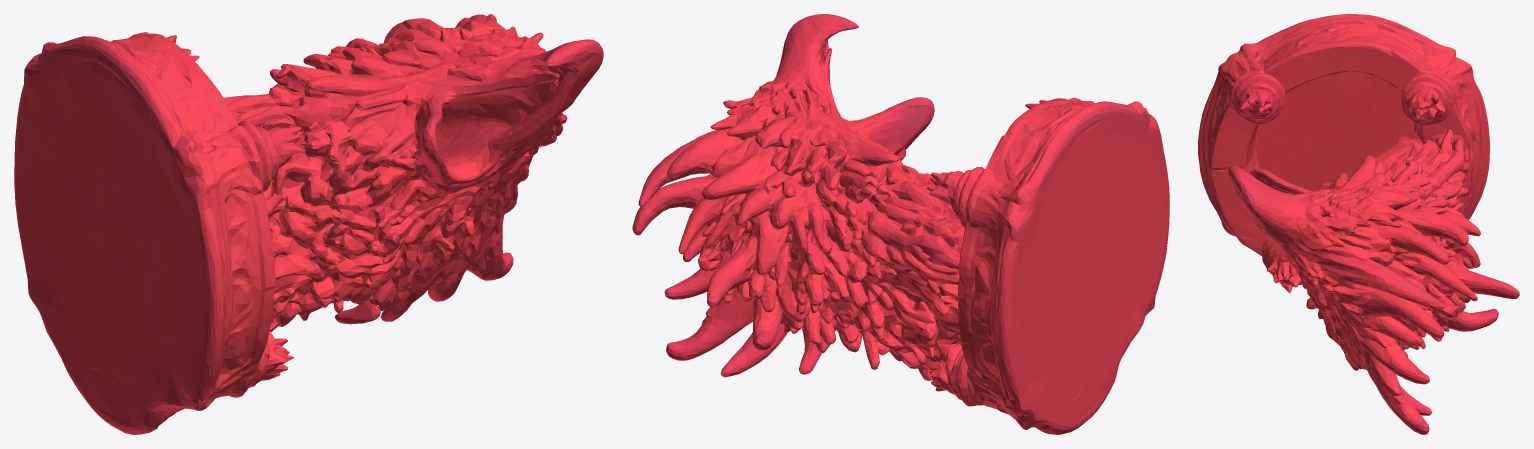
Rendered from phoenix-squawking-red.glb.
The picture shows the model from 3 angles, left to right: view 1: azimuth 30°, elevation 25°; view 2: azimuth 150°, elevation 25°; view 3: azimuth 270°, elevation 25°; orthographic projection. The views are drawn at different scales.
Parts seen in each view (by area): view 1: phoenix squawking red_textured.obj; view 2: phoenix squawking red_textured.obj; view 3: phoenix squawking red_textured.obj.
Boxes of the visible parts, box(x1,y1,x2,y2) form: phoenix squawking red_textured.obj: box(14, 14, 603, 434); phoenix squawking red_textured.obj: box(632, 14, 1169, 434); phoenix squawking red_textured.obj: box(1198, 14, 1519, 434).
Size of the model in its own units: 1.99 by 1.46 by 1.56.
Materials: 1 (1 with a texture image).
